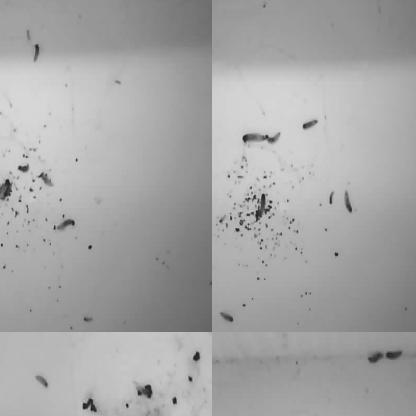PtecticusTenebrifer: (242, 133, 268, 144), (35, 372, 50, 389), (386, 348, 404, 362), (40, 173, 54, 190), (56, 218, 74, 231), (0, 178, 10, 200), (368, 351, 384, 364), (268, 131, 282, 145), (220, 310, 235, 322), (260, 192, 266, 220), (345, 190, 352, 213), (302, 120, 318, 130), (17, 164, 32, 174), (0, 295, 6, 320), (34, 42, 41, 62), (0, 180, 6, 201), (329, 189, 336, 206), (212, 165, 218, 184), (122, 0, 140, 6), (212, 224, 220, 237), (0, 45, 10, 55), (212, 167, 217, 186), (212, 80, 219, 92), (81, 0, 96, 5), (212, 126, 215, 147), (212, 0, 219, 9), (185, 0, 191, 8), (348, 0, 360, 4), (171, 0, 182, 4)
